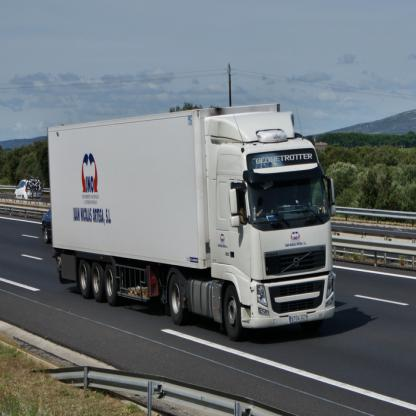Car: (14, 178, 43, 200), (42, 206, 53, 240)
Truck: (48, 105, 336, 342)
